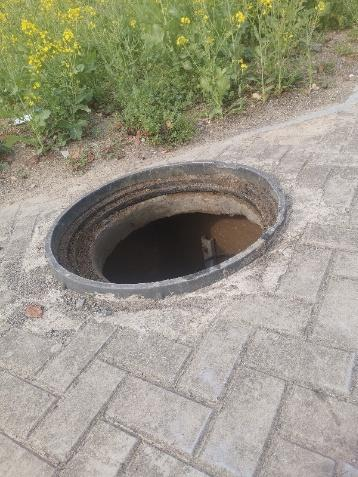wellcover: (44, 155, 292, 288)
